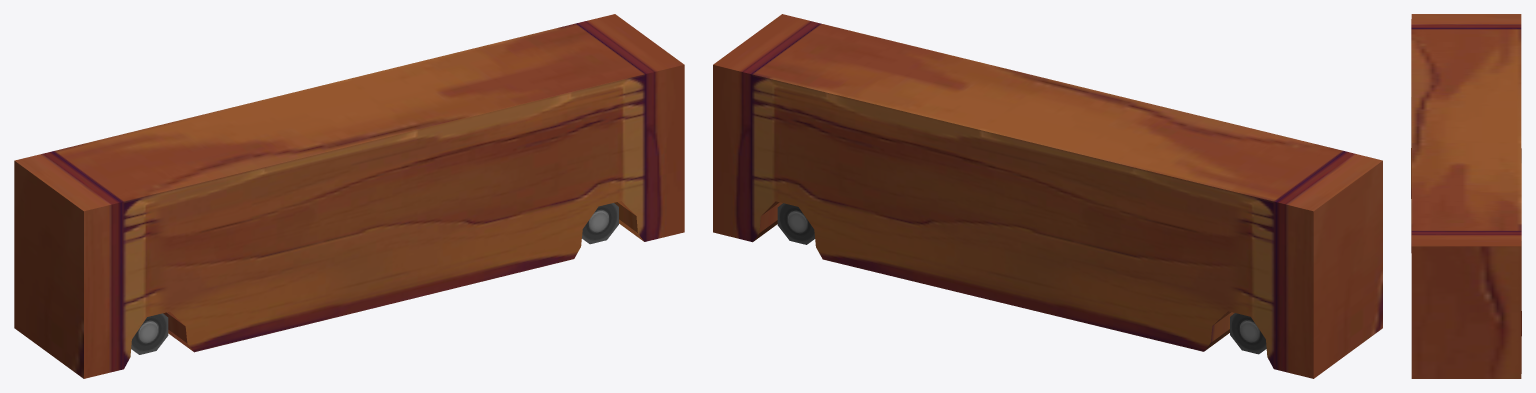
The model's file is dynamic_fence_wood_02.fbx.
The picture shows the model from 3 angles, left to right: view 1: azimuth 30°, elevation 25°; view 2: azimuth 150°, elevation 25°; view 3: azimuth 270°, elevation 25°; orthographic projection. The views are drawn at different scales.
Parts seen in each view (by area): view 1: dynamic_fence_wood_02; view 2: dynamic_fence_wood_02; view 3: dynamic_fence_wood_02.
Part boxes in pixels (bbox=[...]): dynamic_fence_wood_02: bbox=[14, 14, 684, 378]; dynamic_fence_wood_02: bbox=[713, 14, 1382, 378]; dynamic_fence_wood_02: bbox=[1411, 14, 1521, 378].
Bounding box in the file's own units: 150 × 40 × 30.25.
